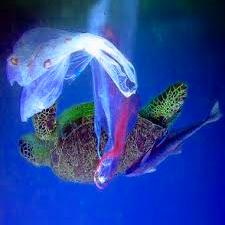Trash: (7, 14, 145, 103)
